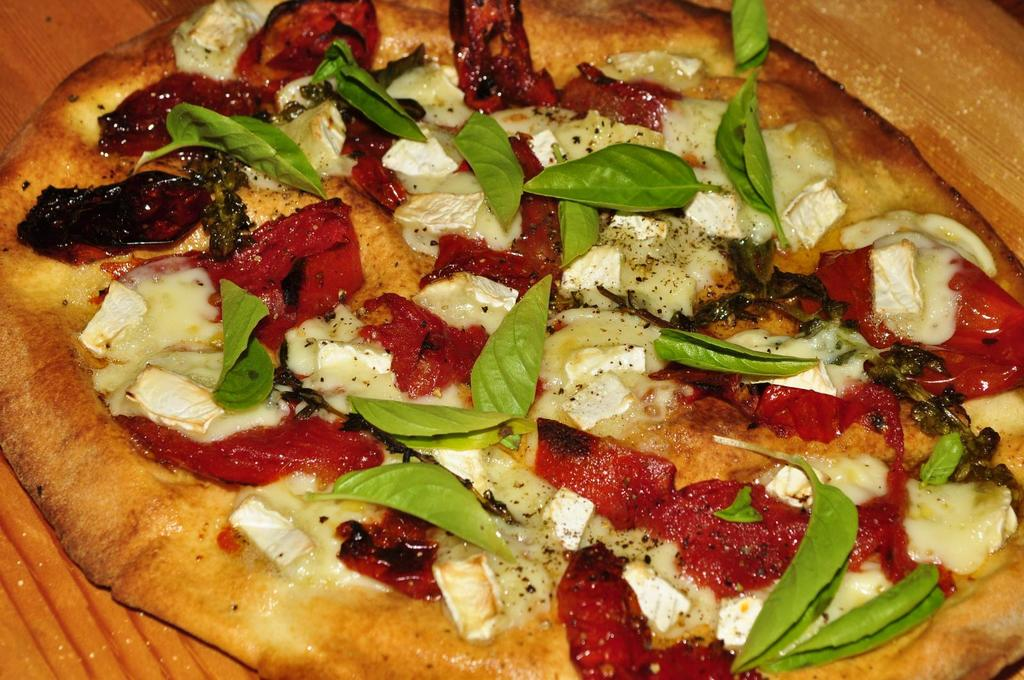Pizza: (0, 0, 1024, 678)
